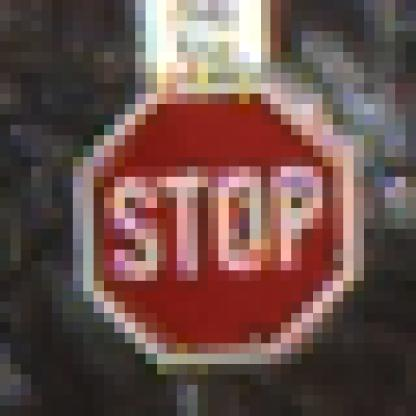stop: (68, 76, 362, 370)
